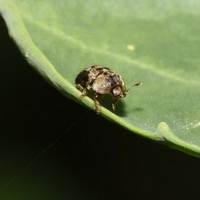insect: (75, 65, 141, 113)
